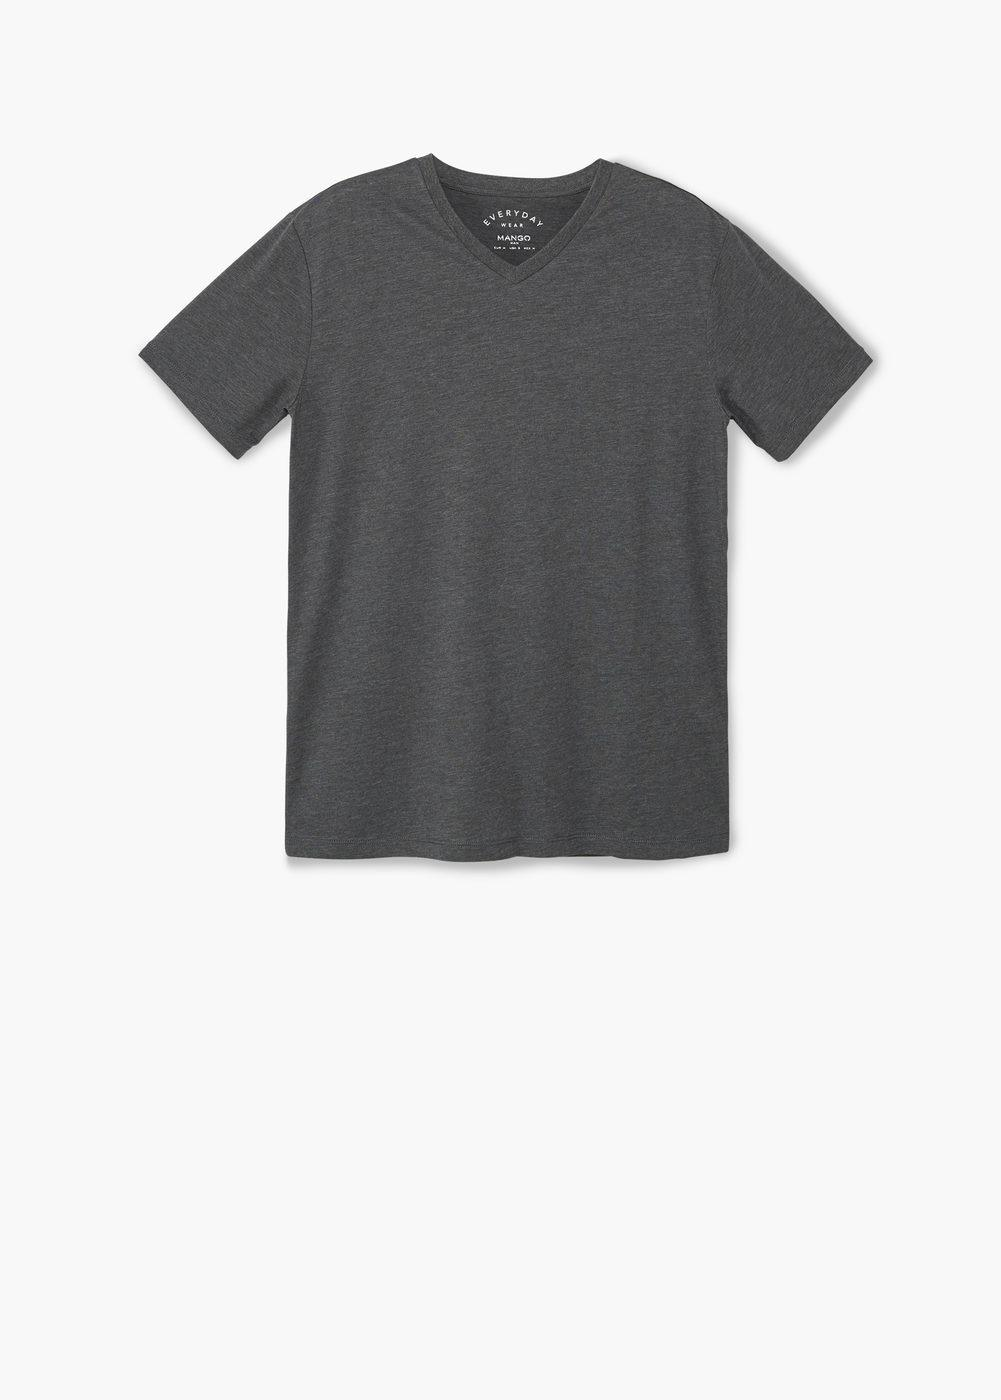teeshirt: (78, 127, 953, 1012)
